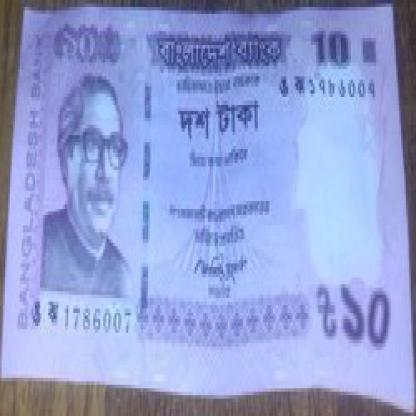Ten Taka: (340, 274, 402, 367), (52, 17, 112, 73), (306, 31, 363, 73)
